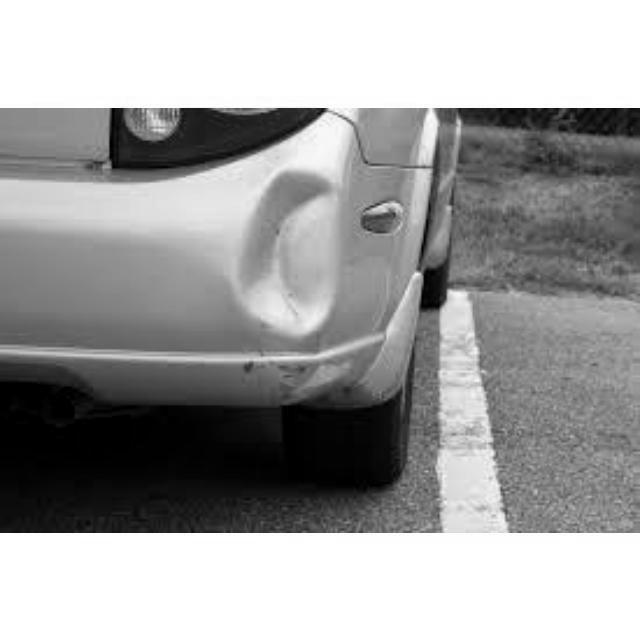rear-bumper-dent: (1, 154, 412, 393)
